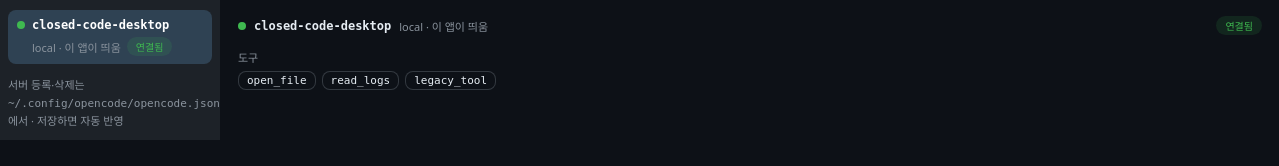
Scenario: 도구를 고르면 설명이 열린다 › 같은 것을 다시 누르면 닫힌다 — 연 것을 닫을 다른 문이 없다
Click the button "open_file" at (277, 80), box top-left (238, 71), bottom-right (316, 90)
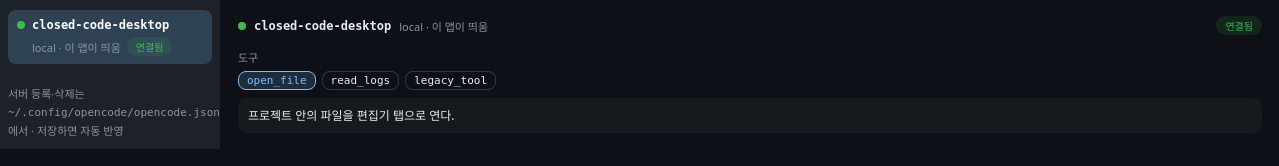
Click the button "open_file" at (277, 80), box top-left (238, 71), bottom-right (316, 90)
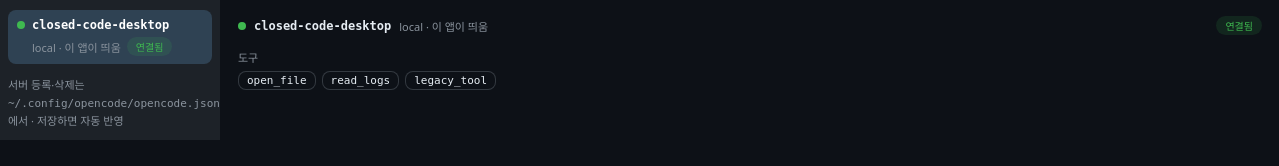
Expected: the text "편집기 탭으로 연다" is gone
